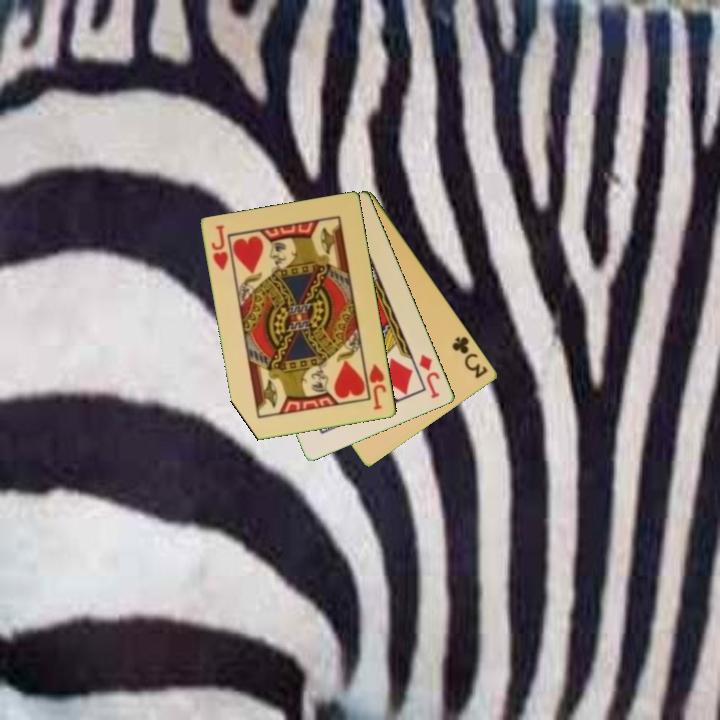3c: (449, 333, 491, 381)
Jd: (416, 351, 443, 402)
Jh: (361, 358, 390, 413), (208, 222, 232, 273)
